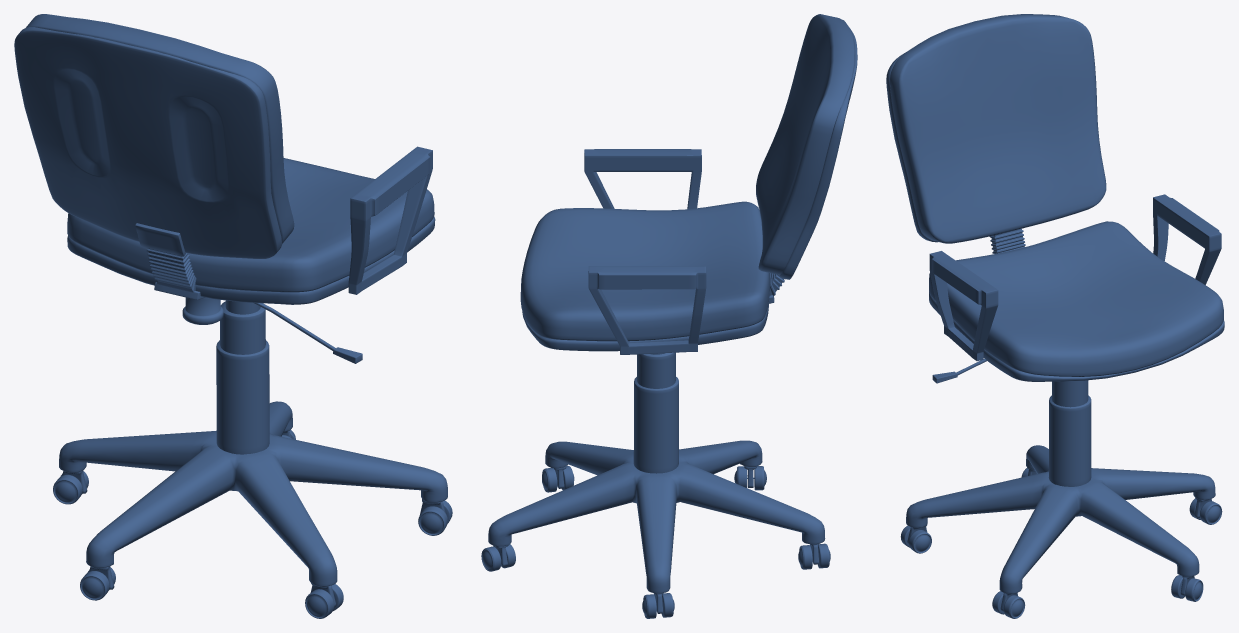
The model's file is Office_chair.fbx.
3 views of the same model, side by side, from view 1: azimuth 30°, elevation 25°; view 2: azimuth 150°, elevation 25°; view 3: azimuth 270°, elevation 25° (orthographic). The views are drawn at different scales.
Visible parts, largest first — view 1: Office_chairMoveableObjectsHaeuschen; view 2: Office_chairMoveableObjectsHaeuschen; view 3: Office_chairMoveableObjectsHaeuschen.
Part boxes in pixels (x1,y1,x2,y2): Office_chairMoveableObjectsHaeuschen: (14, 14, 452, 618); Office_chairMoveableObjectsHaeuschen: (481, 14, 857, 618); Office_chairMoveableObjectsHaeuschen: (886, 14, 1224, 618).
Size of the model in its own units: 73.05 by 104 by 67.69.
